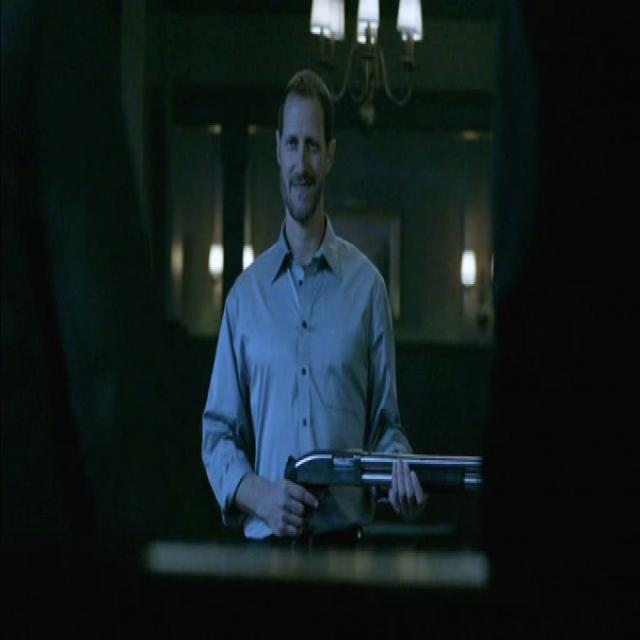rifle: (286, 448, 486, 497)
